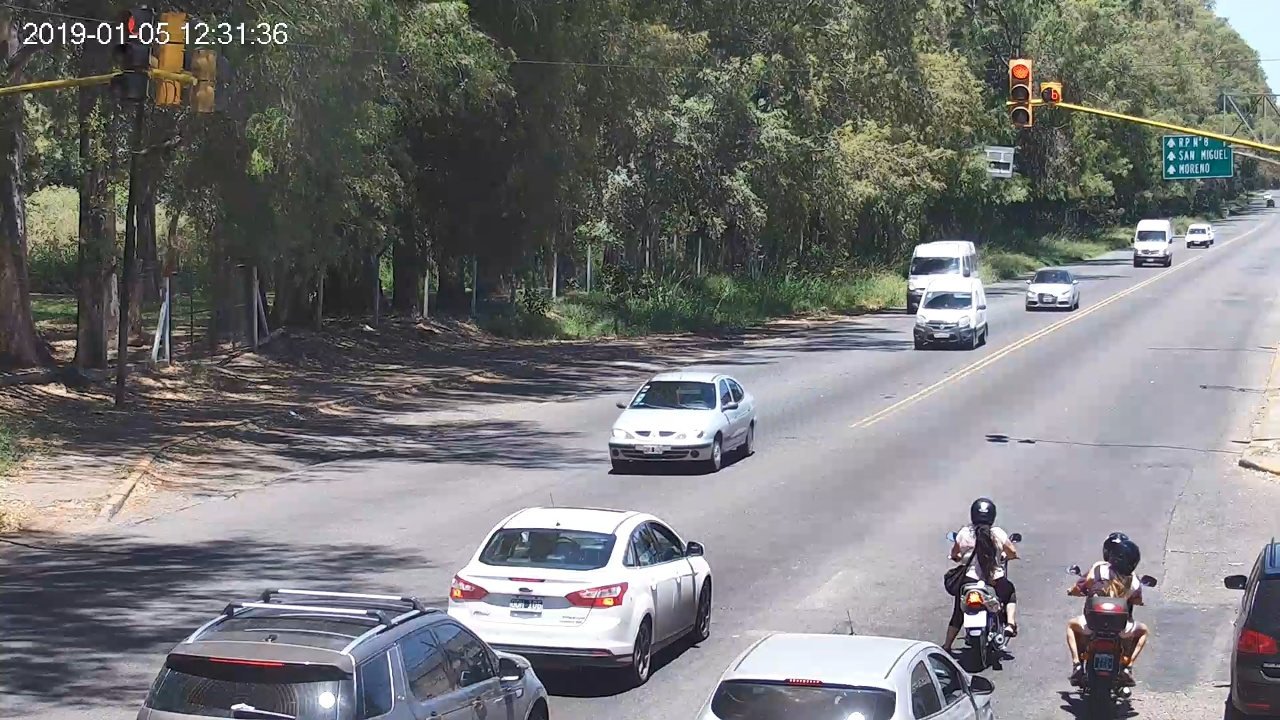car: (138, 589, 549, 720), (694, 633, 994, 720), (1223, 541, 1271, 720)
motorcycle: (1065, 566, 1158, 708), (942, 531, 1023, 668)
traffic light: (1010, 58, 1032, 127)
